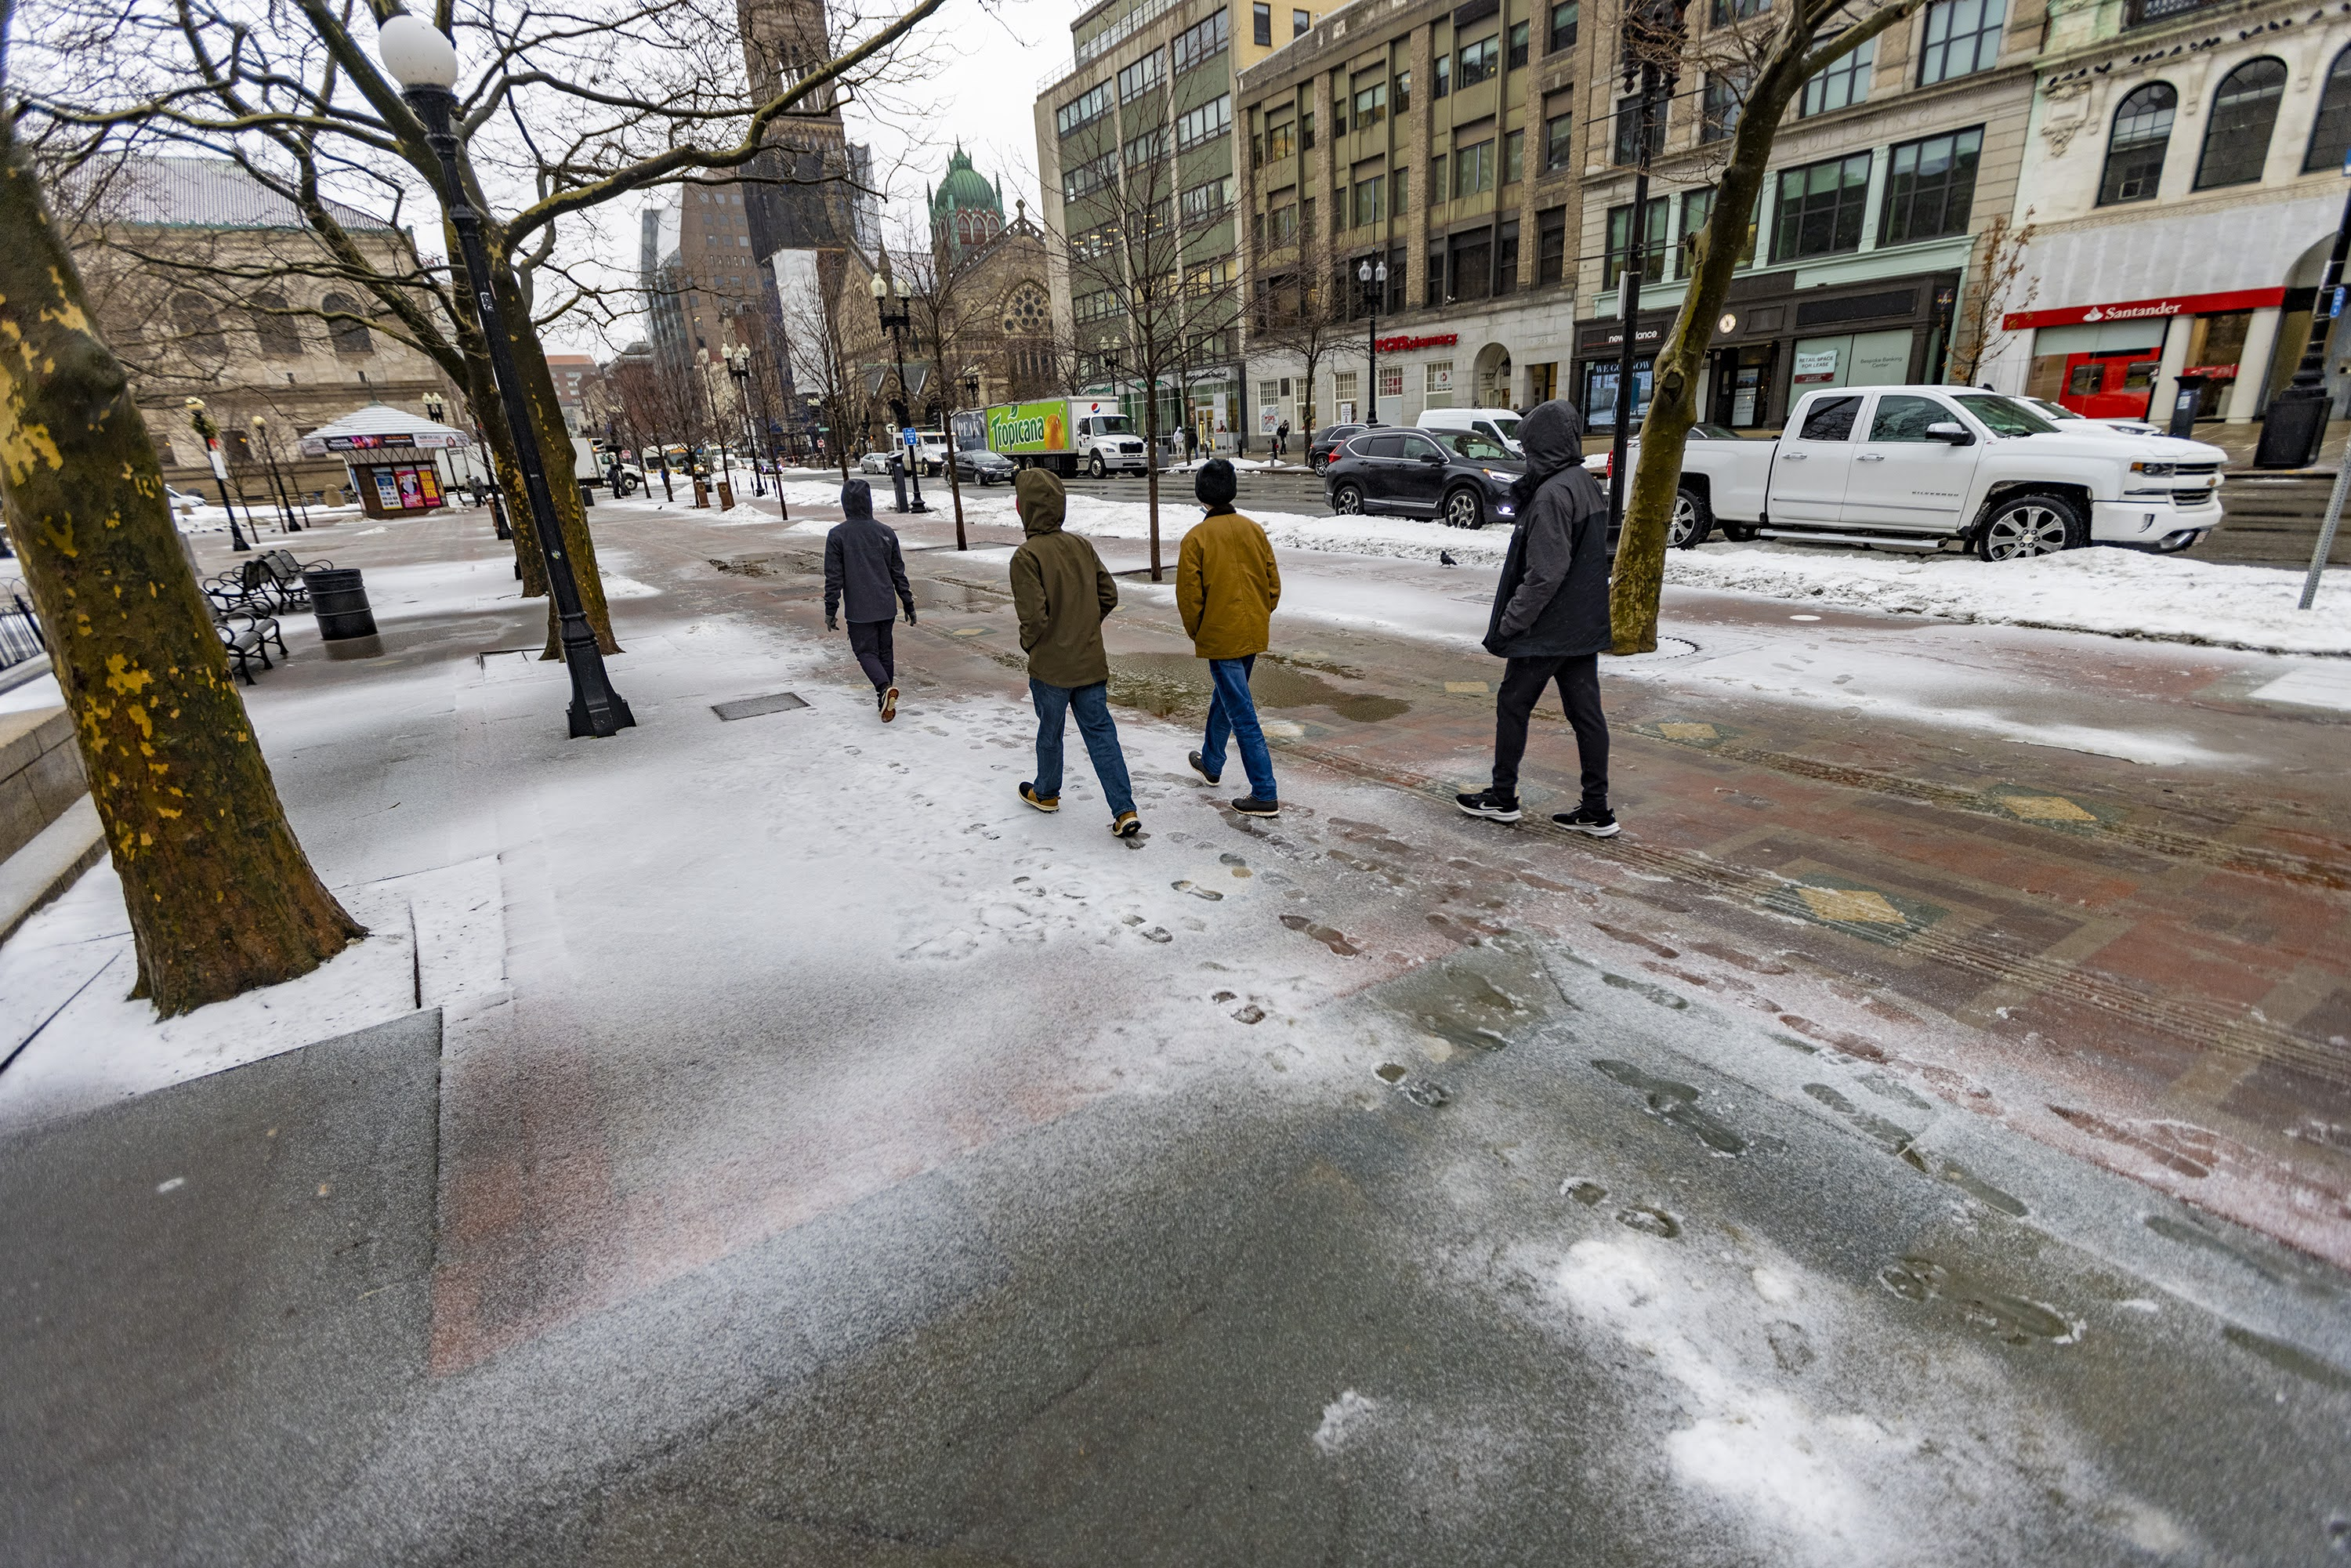person: (1009, 480, 1143, 843), (1173, 454, 1285, 824), (818, 477, 920, 725)
